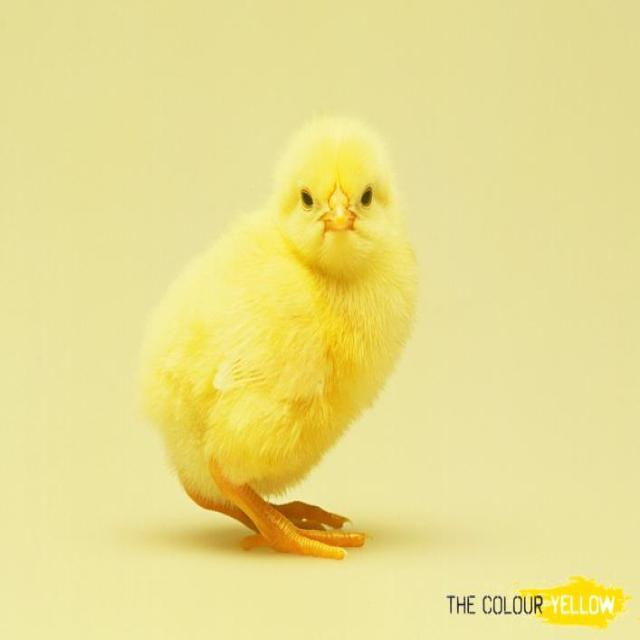poussin: (147, 112, 423, 560)
